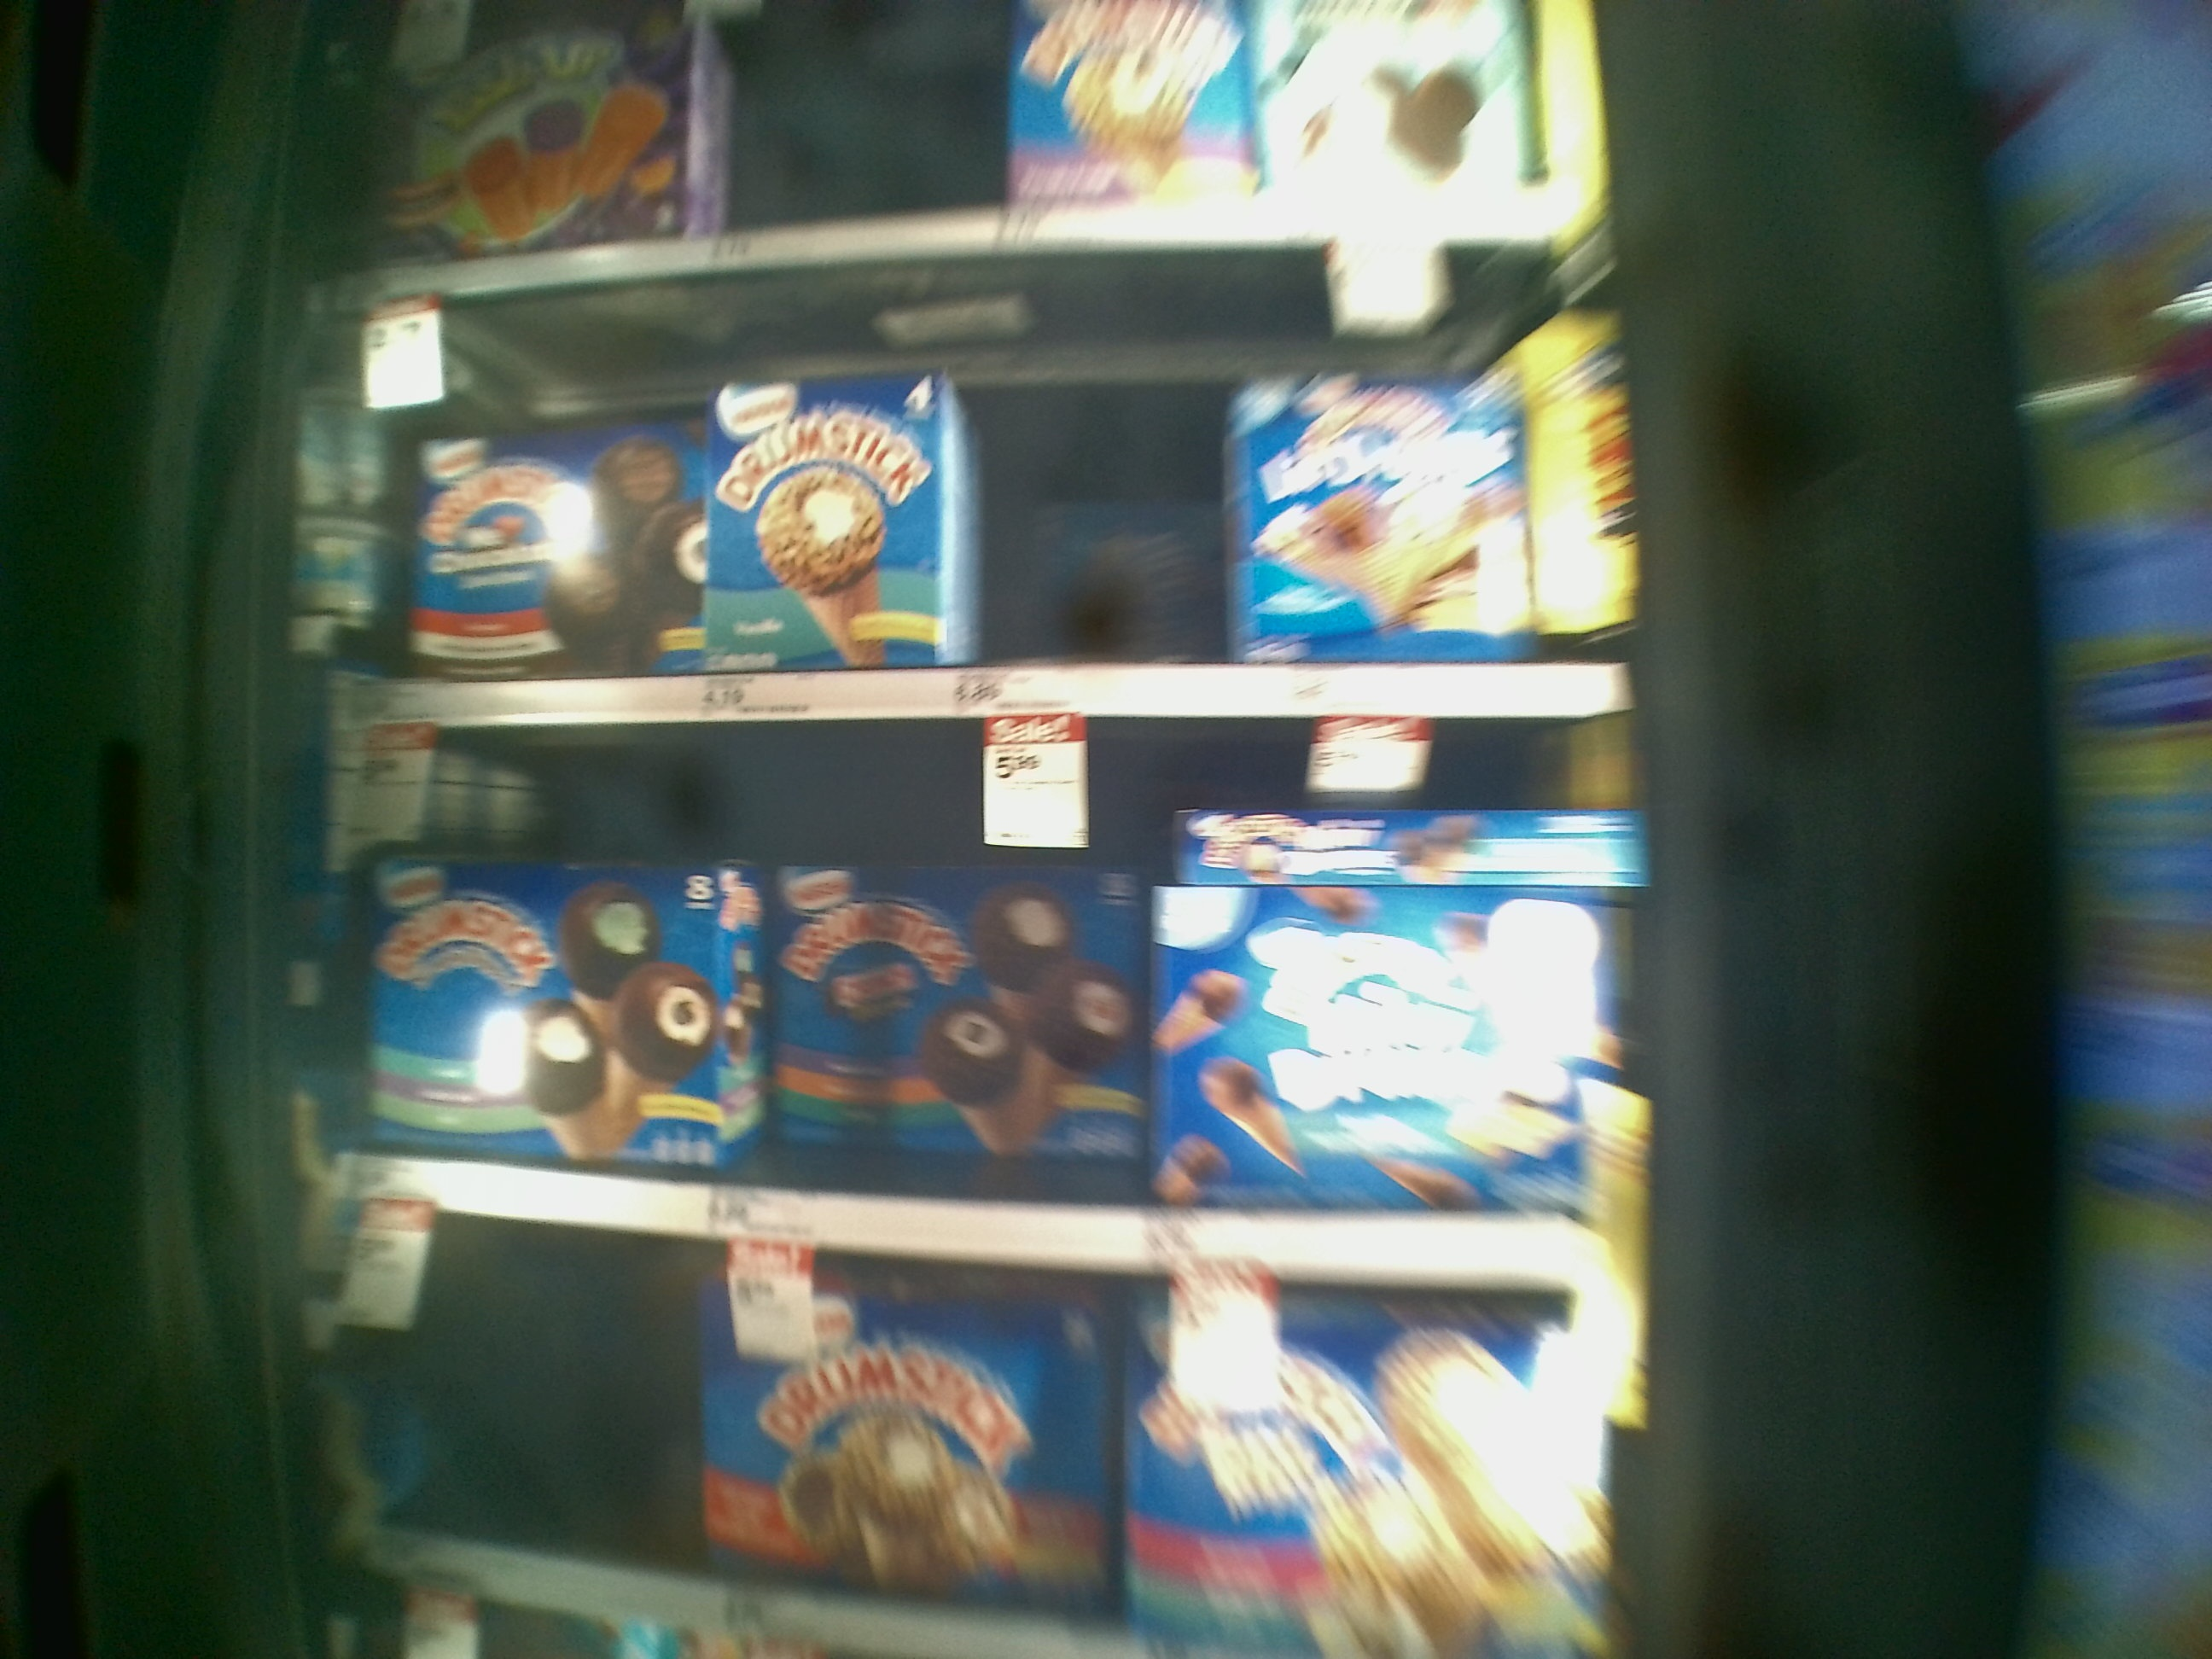shelf: (329, 708, 1634, 1279)
